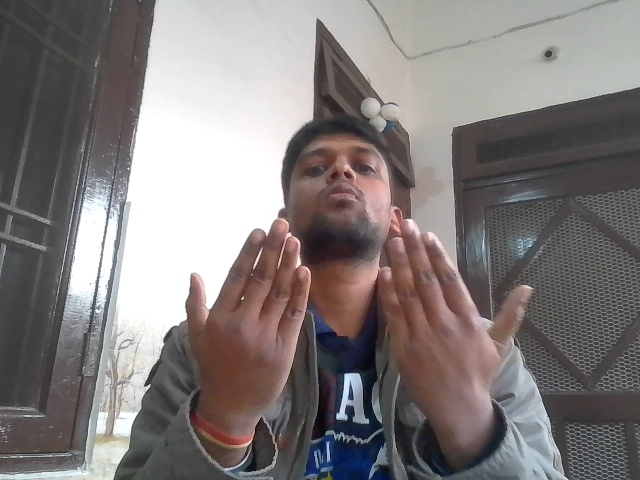ThankYou: (174, 204, 560, 446)
